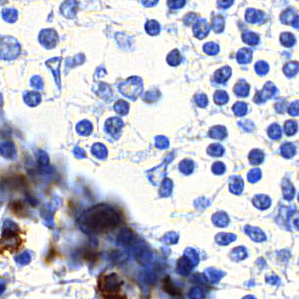Lymphocyte: (81, 205, 123, 232)
